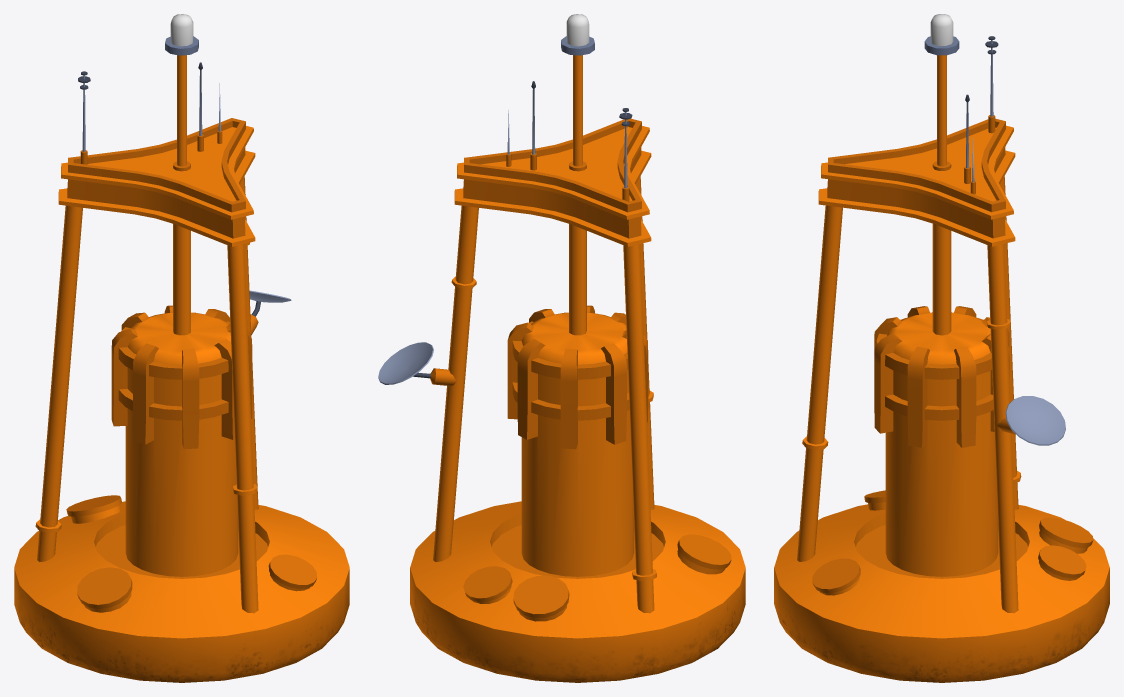
The model's file is Buoy00.fbx.
The picture shows the model from 3 angles, left to right: view 1: azimuth 30°, elevation 25°; view 2: azimuth 150°, elevation 25°; view 3: azimuth 270°, elevation 25°; orthographic projection.
Parts seen in each view (by area): view 1: Buoy00; view 2: Buoy00; view 3: Buoy00.
Part boxes in pixels (x1,y1,x2,y2): Buoy00: (14, 14, 349, 682); Buoy00: (378, 14, 745, 682); Buoy00: (774, 14, 1109, 682).
Bounding box in the file's own units: 2.04 × 3.94 × 2.
